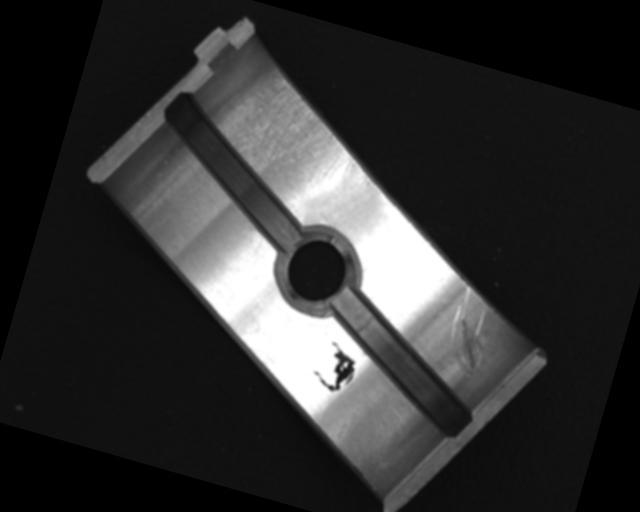blot: (308, 331, 364, 397)
gap: (137, 88, 330, 255), (306, 285, 496, 440)
hole: (264, 218, 371, 324)
nick: (439, 281, 506, 382)
scratch: (206, 56, 393, 203)
